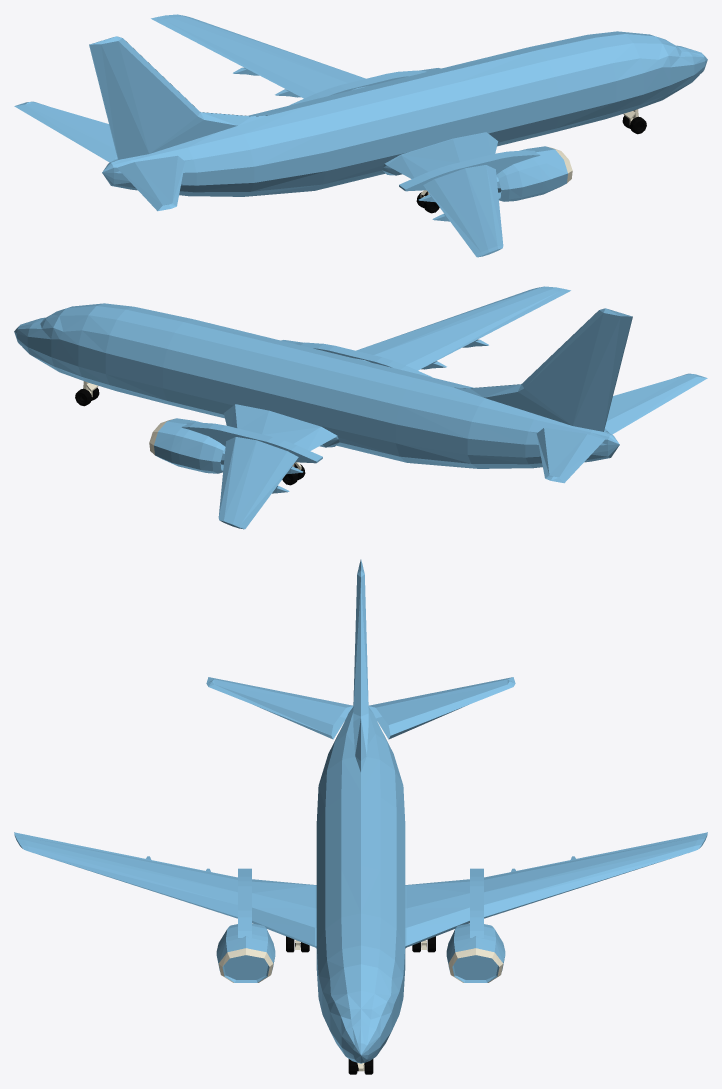
3 views of the same model, one above another, from view 1: azimuth 30°, elevation 25°; view 2: azimuth 150°, elevation 25°; view 3: azimuth 270°, elevation 25° (orthographic). The views are drawn at different scales.
Parts seen in each view (by area): view 1: Layer_02za; view 2: Layer_02za; view 3: Layer_02za.
Boxes of the visible parts, box(x1,y1,x2,y2) form: Layer_02za: box(14, 14, 707, 257); Layer_02za: box(14, 286, 707, 529); Layer_02za: box(14, 559, 707, 1074).
Bounding box in the file's own units: 12.51 × 4.23 × 11.37.
